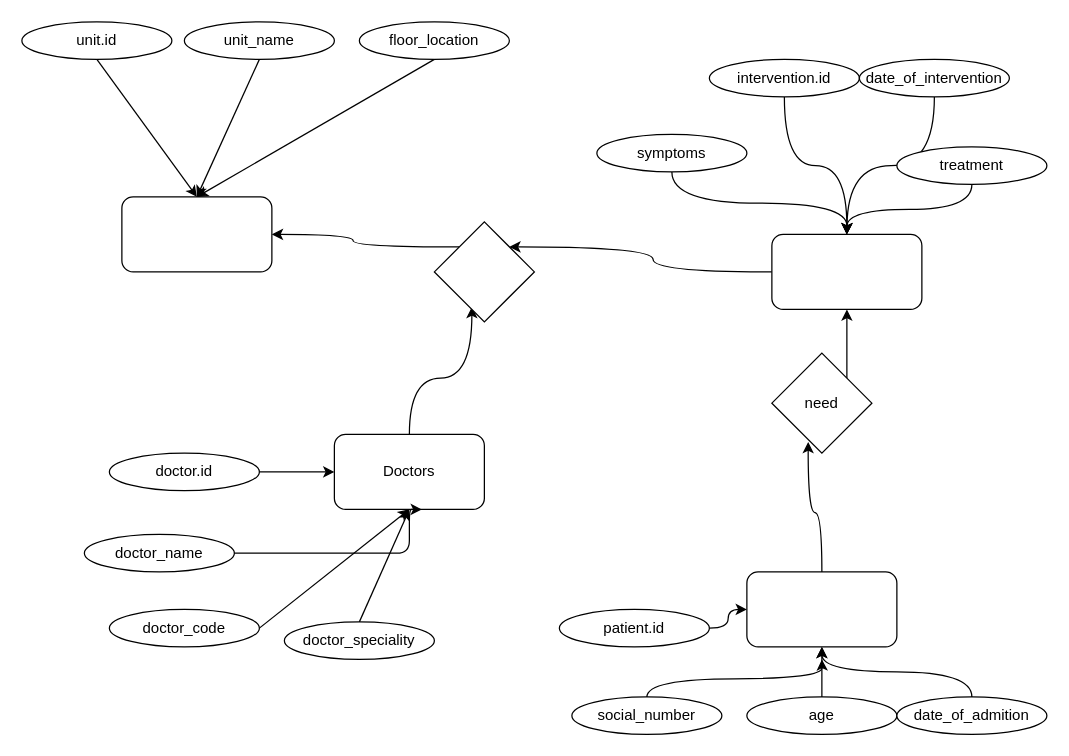
Image size: 1069x756. Some labels were removed from this diagram. Each missing label, with the centre of its shape:
has: point (483, 271)
Interventions: point (846, 271)
Patients: point (821, 609)
Units: point (196, 234)
